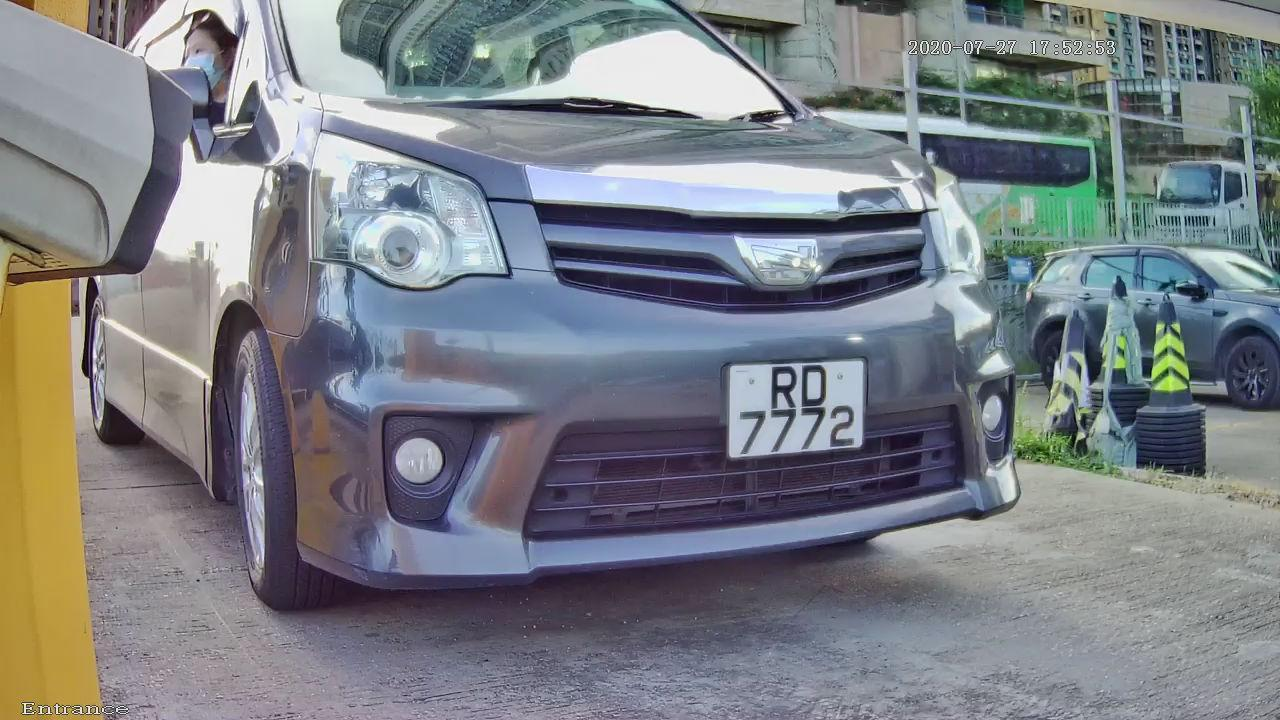privatecar: (86, 42, 1103, 614)
